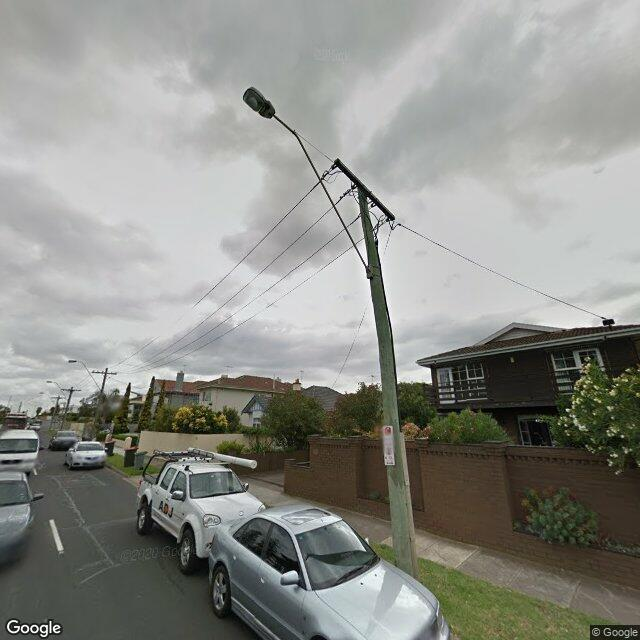crossarm: (332, 158, 396, 222), (92, 371, 117, 375), (50, 396, 66, 399), (60, 389, 82, 391)
streetlight: (241, 85, 373, 280), (68, 359, 102, 392), (46, 380, 69, 403), (40, 392, 56, 406)
timber-pole: (357, 180, 419, 584), (89, 368, 108, 440), (61, 386, 74, 432), (49, 394, 60, 430)
